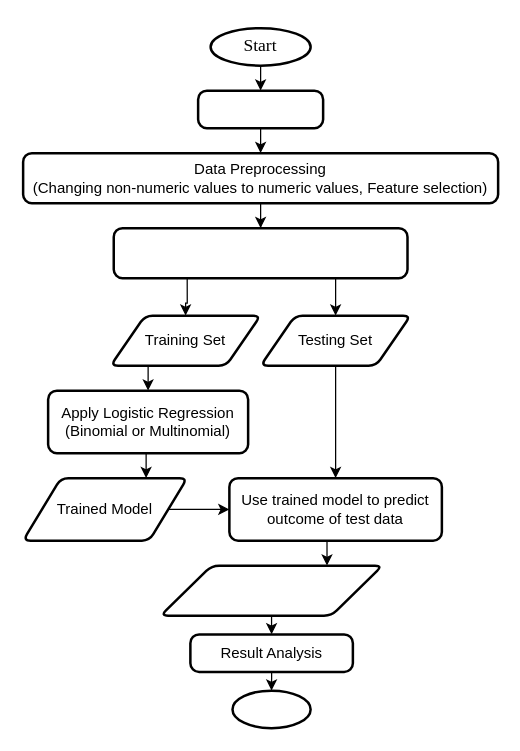
The diagram is 520 pixels wide and 751 high, and some of its shapes have lost their labels. Here are the shapes that lost their labels. From the top down, the centre of each, then its label:
At (x=260, y=109): "Read dataset".
At (x=260, y=252): "Split dataset into training and testing set (4:1 ratio)".
At (x=271, y=590): "Predicted Output".
At (x=271, y=709): "Stop".
